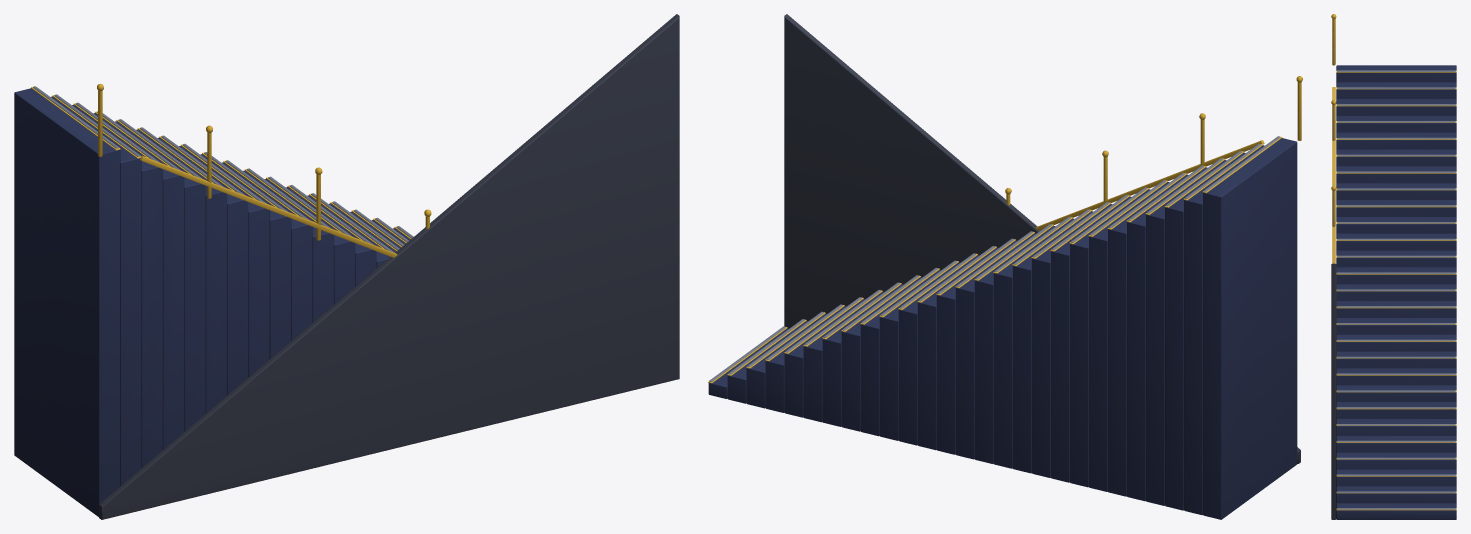
File: SM_Stage4_ProjectionStairs.fbx
The picture shows the model from 3 angles, left to right: view 1: azimuth 30°, elevation 25°; view 2: azimuth 150°, elevation 25°; view 3: azimuth 270°, elevation 25°; orthographic projection. The views are drawn at different scales.
Visible parts, largest first — view 1: SM_Stage4_ProjectionStairs; view 2: SM_Stage4_ProjectionStairs; view 3: SM_Stage4_ProjectionStairs.
Part boxes in pixels (box(x1,y1,x2,y2)): SM_Stage4_ProjectionStairs: box(14, 14, 679, 519); SM_Stage4_ProjectionStairs: box(708, 14, 1302, 519); SM_Stage4_ProjectionStairs: box(1331, 14, 1456, 519).
Bounding box in the file's own units: 905 × 648 × 240.
